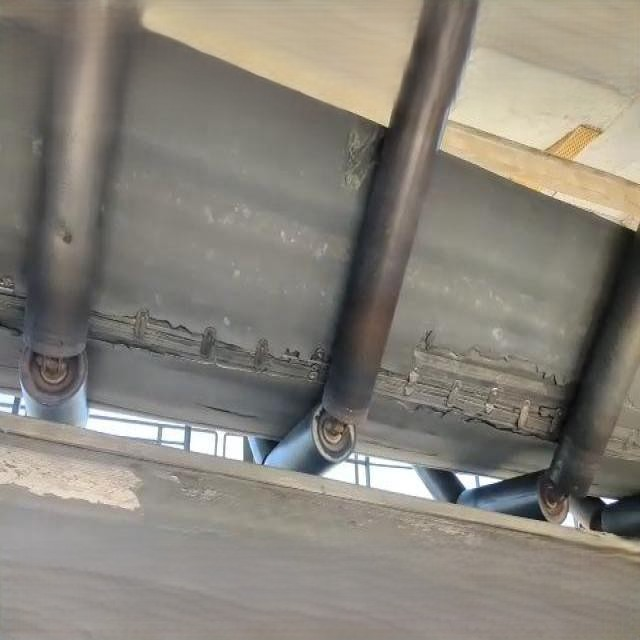Tear: (79, 289, 334, 392), (371, 336, 575, 448), (0, 271, 38, 339)
Wear: (340, 110, 388, 197)
